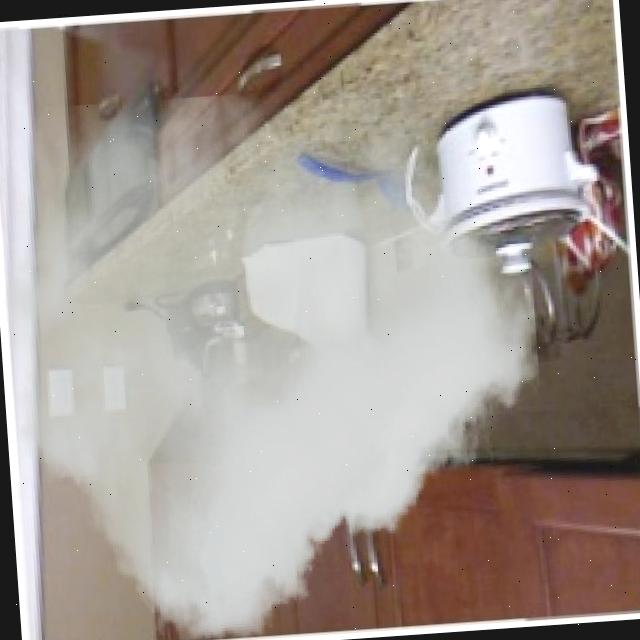smoke: (0, 74, 555, 640)
